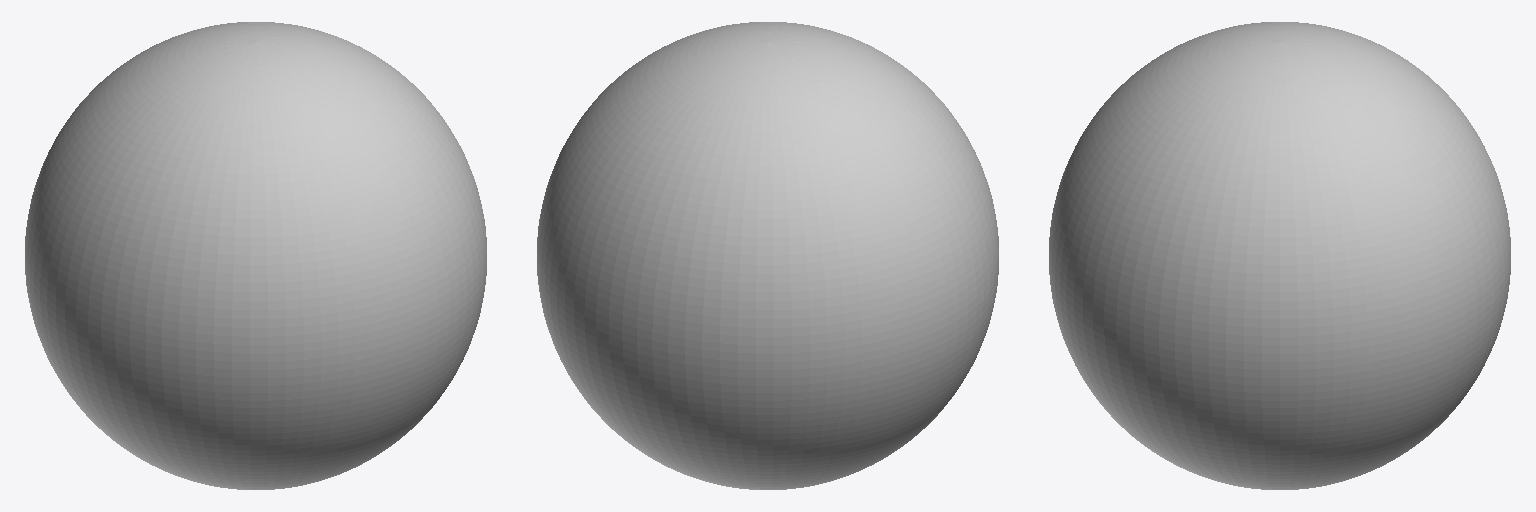
The model's file is m_relbow.obj.
3 renders of one model, left to right at view 1: azimuth 30°, elevation 25°; view 2: azimuth 150°, elevation 25°; view 3: azimuth 270°, elevation 25°, orthographic.
Parts seen in each view (by area): view 1: pSphere4; view 2: pSphere4; view 3: pSphere4.
Boxes of the visible parts, <box> form: pSphere4: <box>25,22,486,489</box>; pSphere4: <box>537,22,998,489</box>; pSphere4: <box>1049,22,1510,489</box>.
Size of the model in its own units: 0.4975 by 0.5064 by 0.4975.